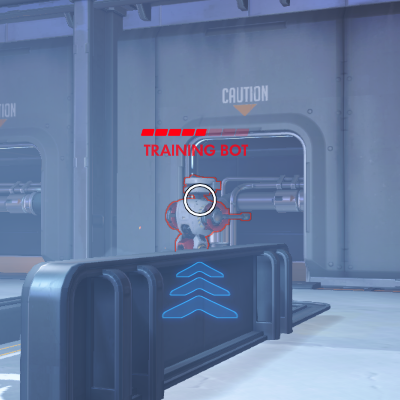hpbar: (140, 128, 250, 137)
